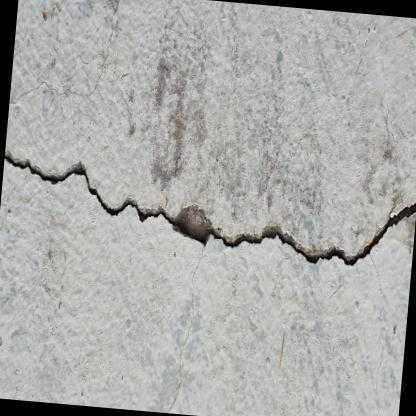crack: (4, 151, 416, 267)
